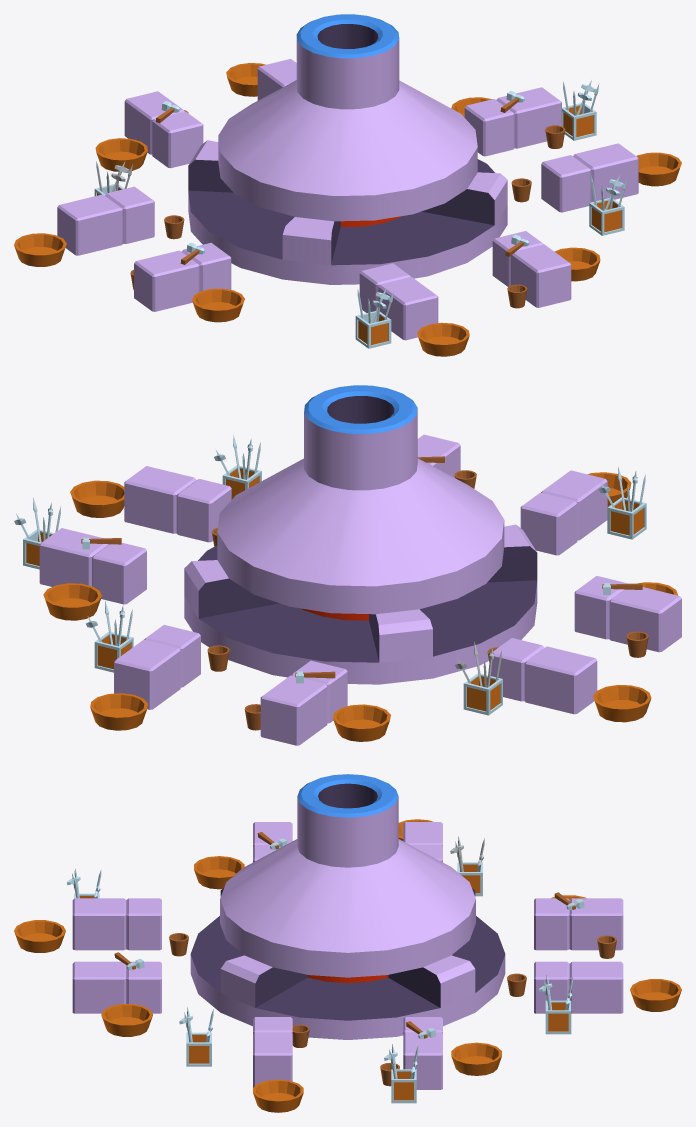
Rendered from Forge.fbx.
3 renders of one model, top to bottom at view 1: azimuth 30°, elevation 25°; view 2: azimuth 150°, elevation 25°; view 3: azimuth 270°, elevation 25°, orthographic. The views are drawn at different scales.
Parts seen in each view (by area): view 1: Forge_LOD0; view 2: Forge_LOD0; view 3: Forge_LOD0.
Boxes of the visible parts, x1,y1,x2,y2 form: Forge_LOD0: (14, 14, 681, 356); Forge_LOD0: (14, 385, 681, 745); Forge_LOD0: (14, 774, 681, 1112).
Size of what is drawn, in the model's own units: 18.93 by 5.62 by 18.93.
